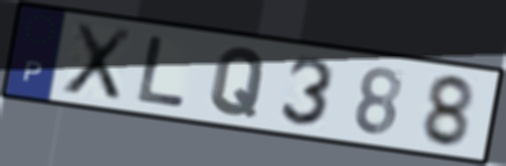3: (278, 55, 336, 129)
8: (420, 72, 479, 149), (351, 65, 405, 137)
L: (134, 32, 191, 110)
Q: (207, 45, 270, 120)
X: (59, 20, 136, 104)
